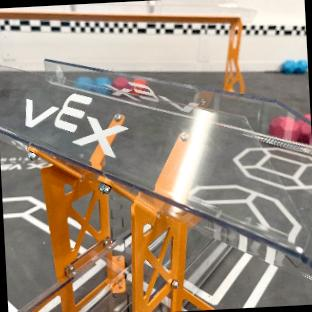Robot: (0, 58, 312, 312)
